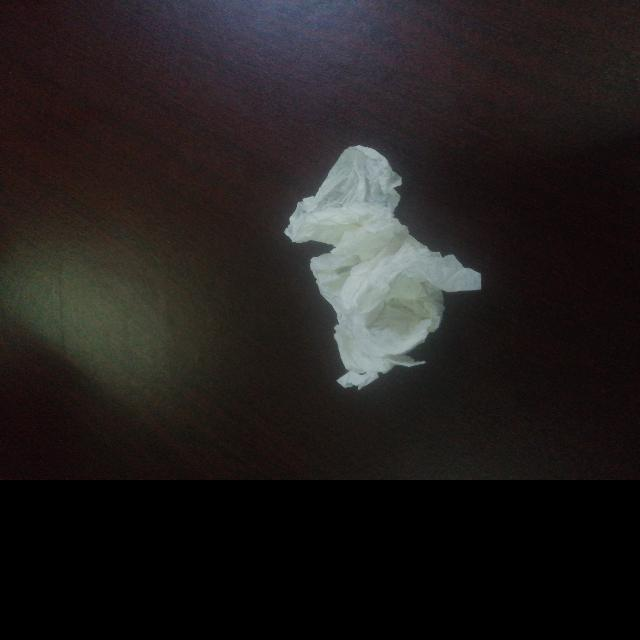kitchen paper: (279, 134, 489, 396)
